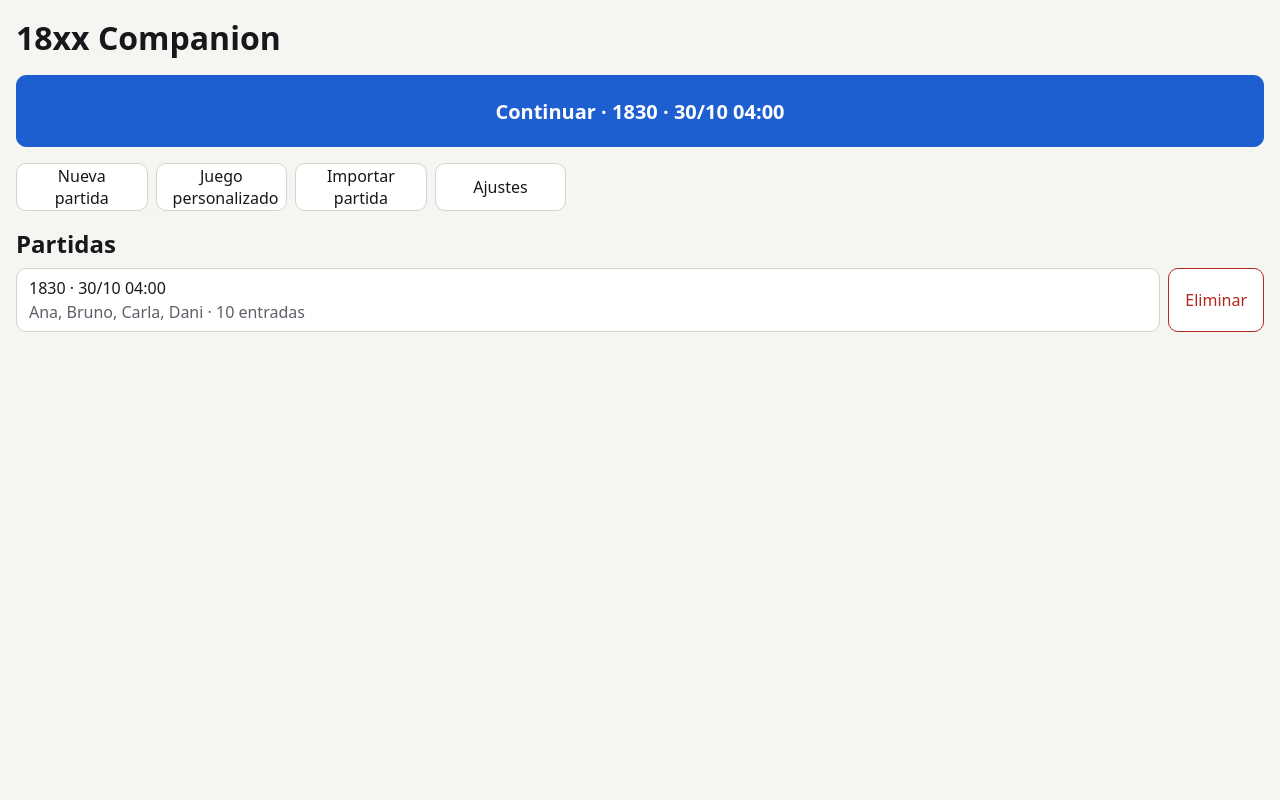
Test case: operating turn (US1) › the round controls offer Operar for the current company and no Siguiente (FR-001)
This screenshot has width=1280, height=800.
Click the button "Continuar · 1830 · 30/10 04:00" at (640, 111), box [16,75,1264,147]
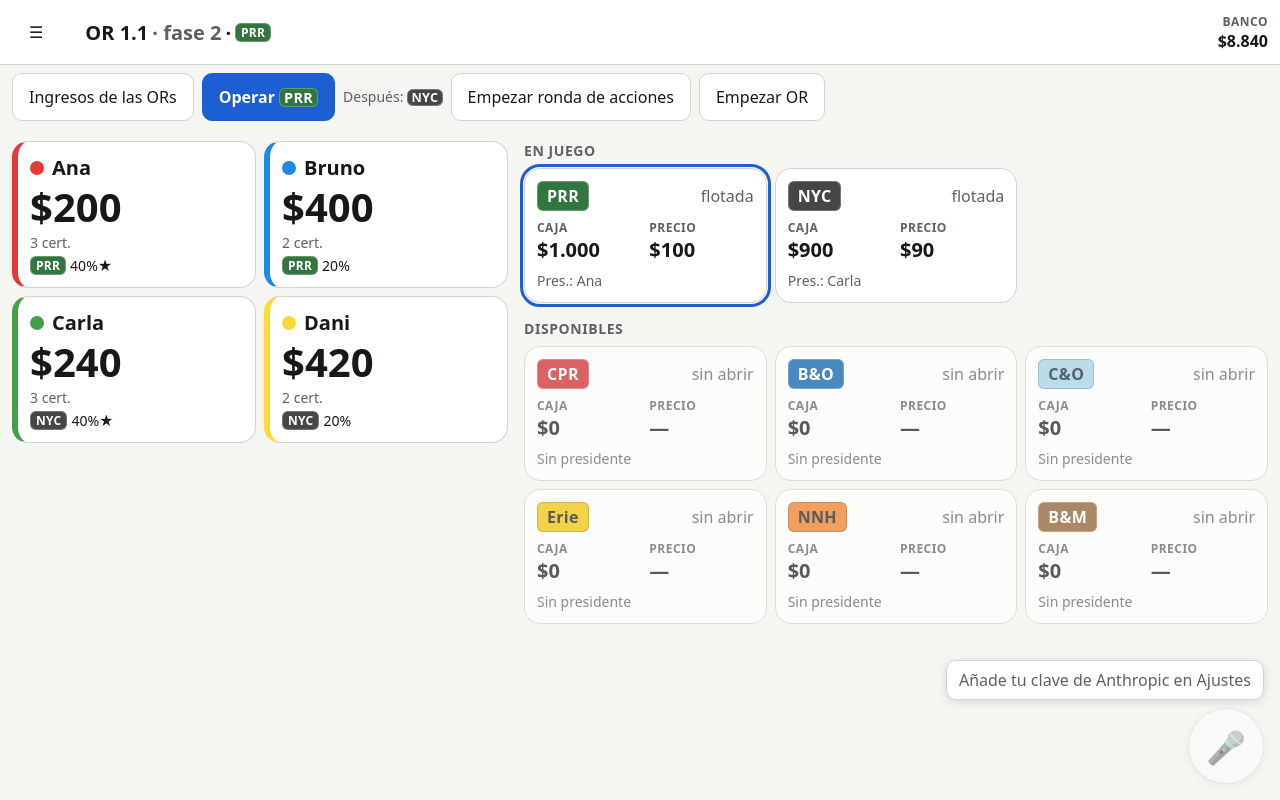
Check: the button named "Menú" is shown, box [12,8,60,56]
Check: the button "Operar PRR" is shown, box [202,73,335,121]
